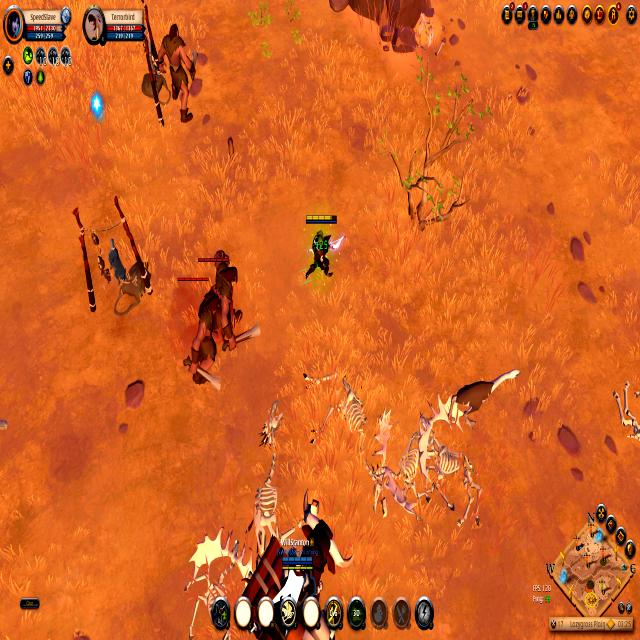ore: (176, 250, 262, 395), (444, 364, 525, 438), (148, 16, 201, 126)
red: (273, 526, 321, 606), (304, 212, 339, 284)
